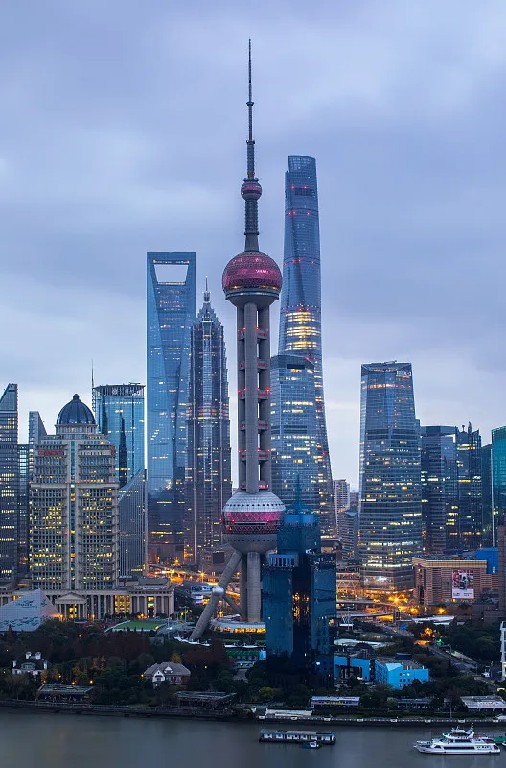Oriental: (188, 38, 287, 637)
